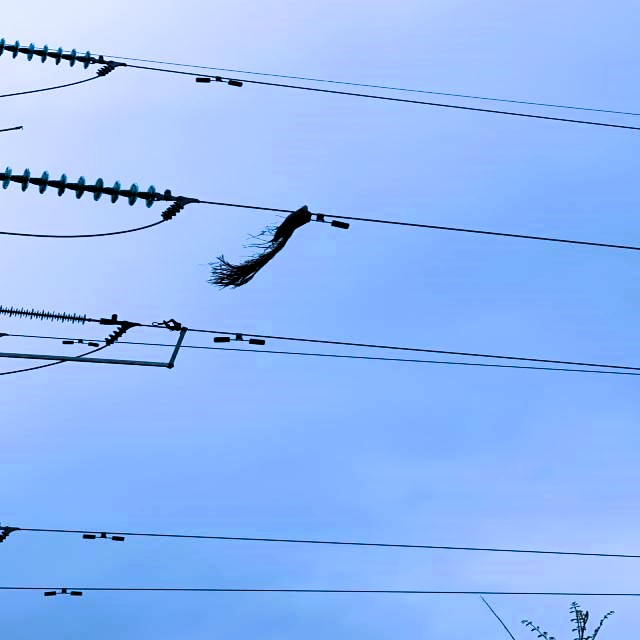wire foreign body: (200, 192, 320, 295)
